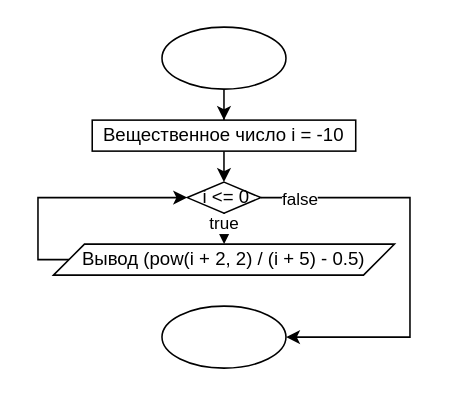
This 450x395 diagram has some shape labels left out. Each missing label, with the box of its shape:
Конец: (160, 305, 286, 368)
Начало: (160, 26, 286, 89)
